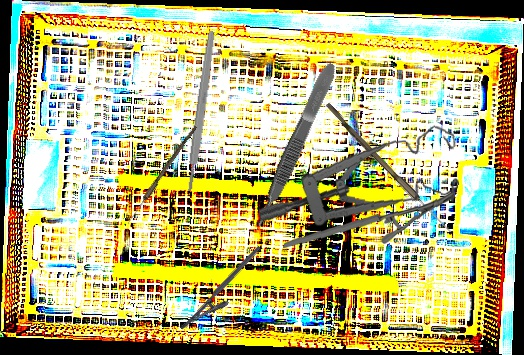Needle Holder: (283, 182, 456, 257), (179, 245, 272, 341)
Scalpel Handle: (184, 30, 217, 192)
Speculum: (257, 107, 465, 244)
Surgical Spoon: (322, 102, 455, 235), (125, 123, 198, 227)
Tissue Forceps: (249, 60, 341, 230)
